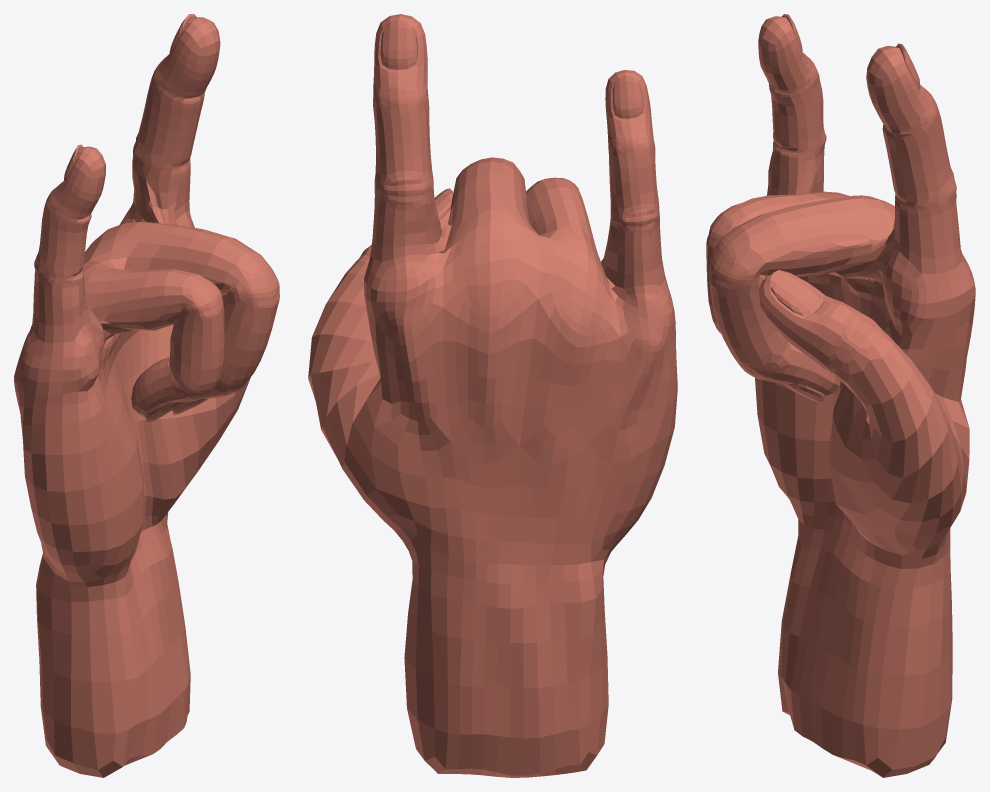
Rendered from zwaad.glb.
3 views of the same model, side by side, from view 1: azimuth 30°, elevation 25°; view 2: azimuth 150°, elevation 25°; view 3: azimuth 270°, elevation 25° (orthographic). The views are drawn at different scales.
Parts seen in each view (by area): view 1: ZBrushPolyMesh3D; view 2: ZBrushPolyMesh3D; view 3: ZBrushPolyMesh3D.
Part boxes in pixels (x1,y1,x2,y2): ZBrushPolyMesh3D: (14,14,279,777); ZBrushPolyMesh3D: (308,14,677,777); ZBrushPolyMesh3D: (706,14,975,777).
Size of the model in its own units: 2.18 by 5.06 by 1.65.
